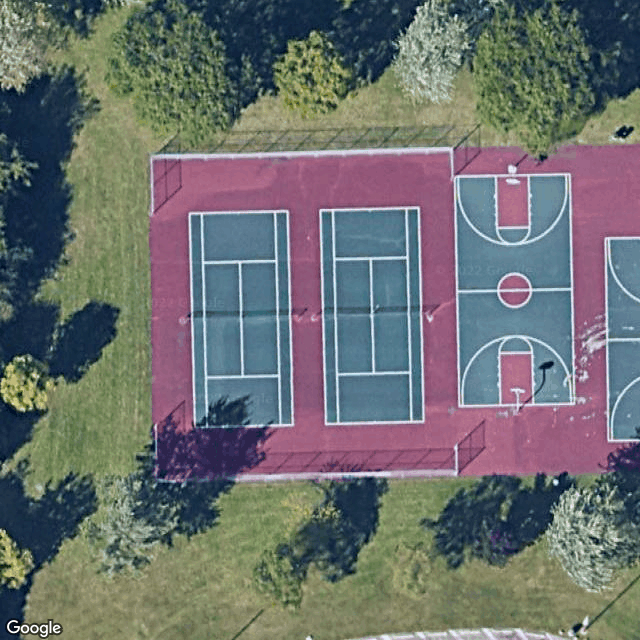Court: (317, 206, 426, 426), (186, 209, 295, 428)
